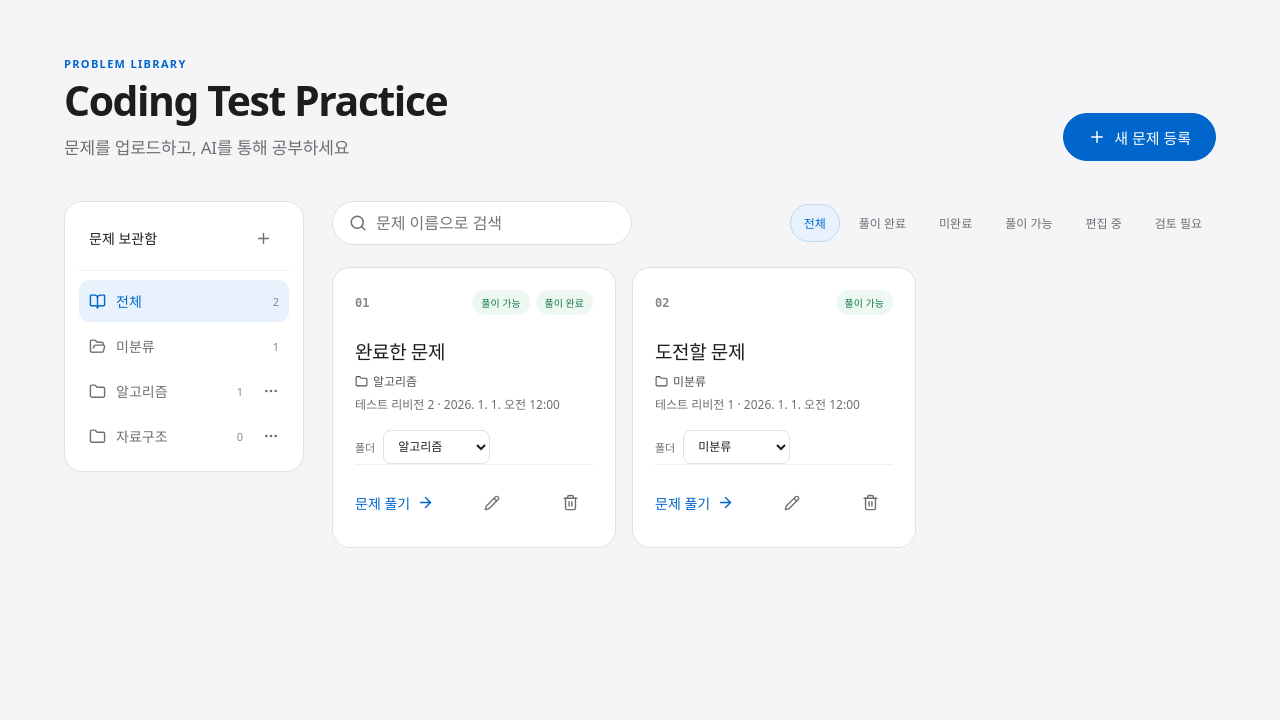
Test case: LibraryPage folders › traps focus, closes with Escape, and restores focus to the opener
Check: the heading "완료한 문제" is shown, box [355,339,445,365]
Click the button named "폴더 추가" at (263, 238), box [241,216,285,260]
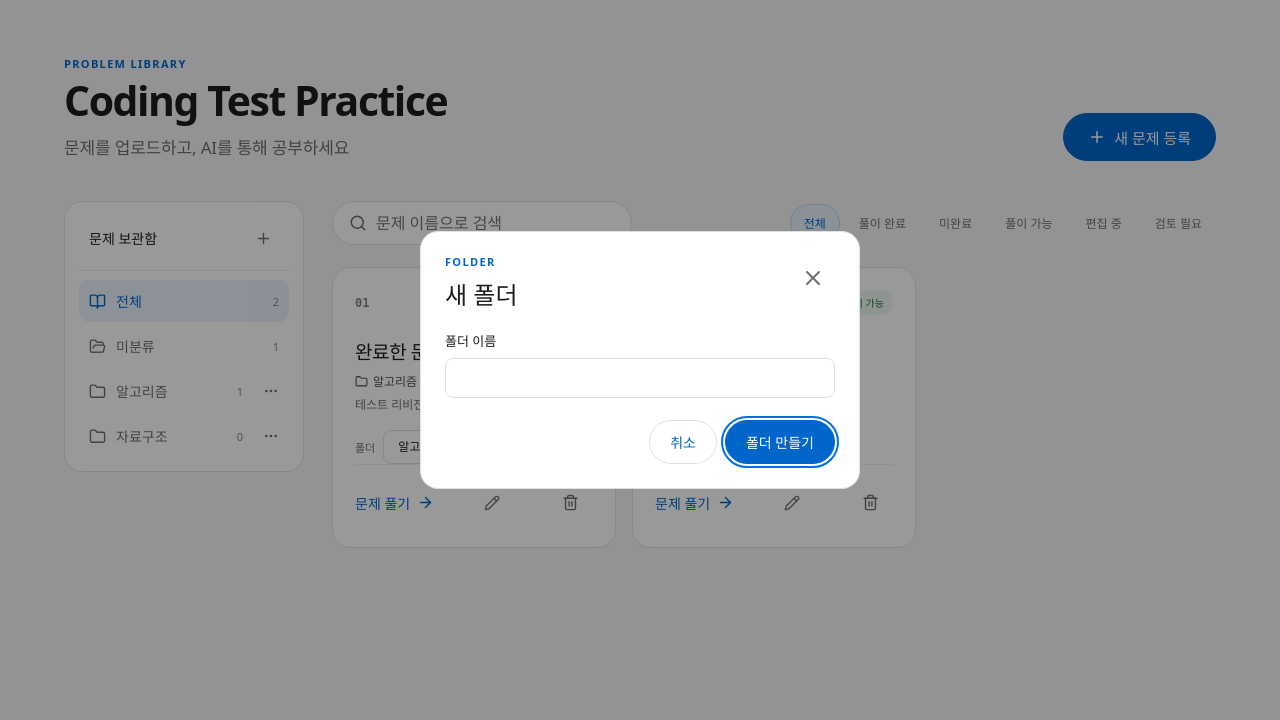
Press Tab in the dialog, box [420,231,860,489]
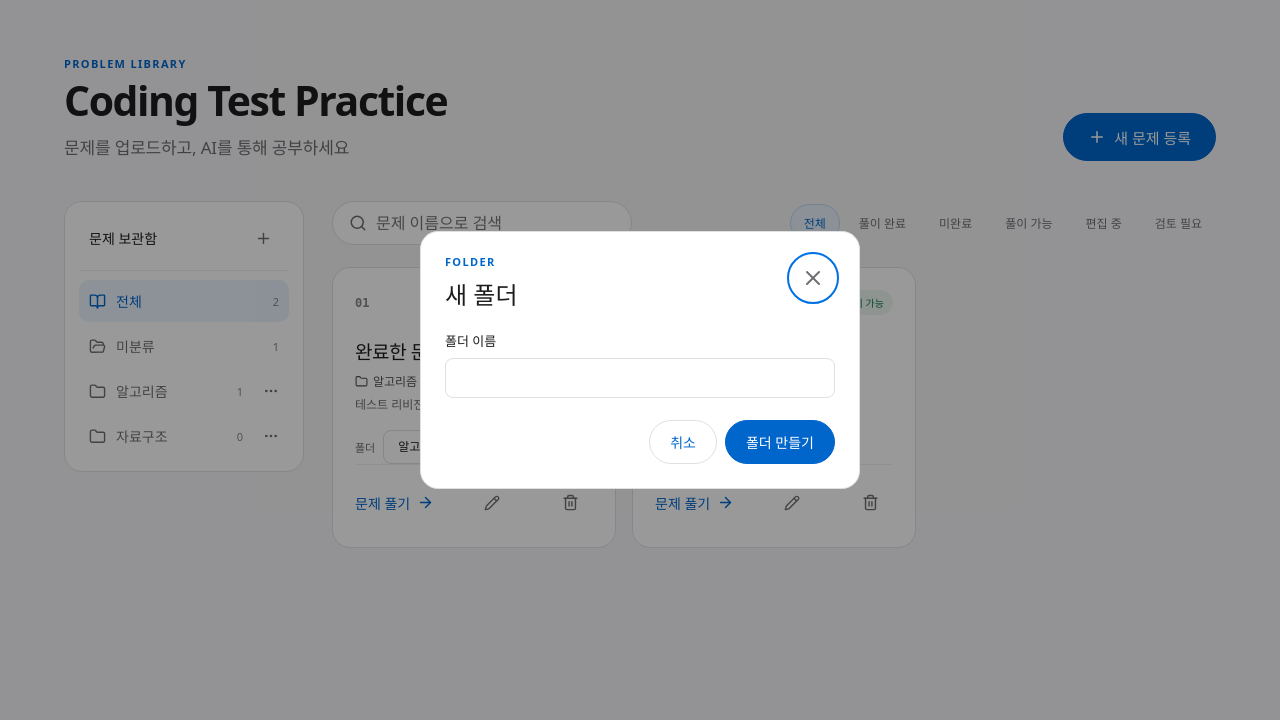
Press Escape in the dialog, box [420,231,860,489]
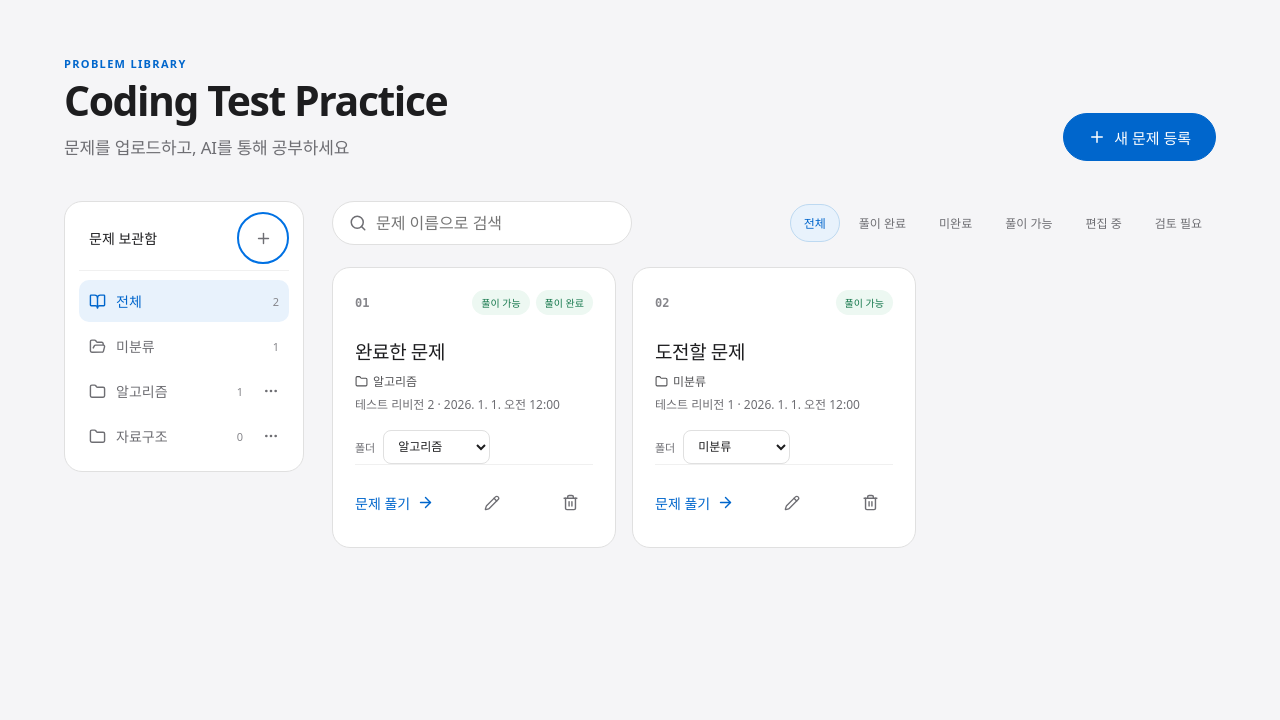
Check: the dialog is gone
